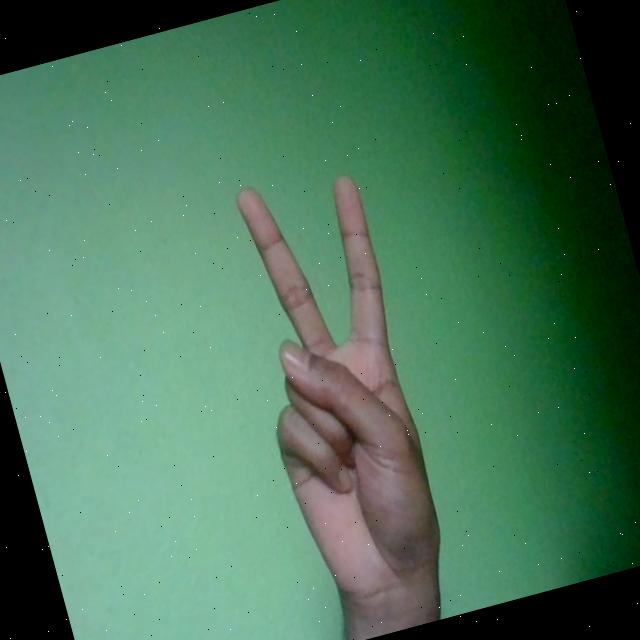Fist: (210, 158, 464, 621)
